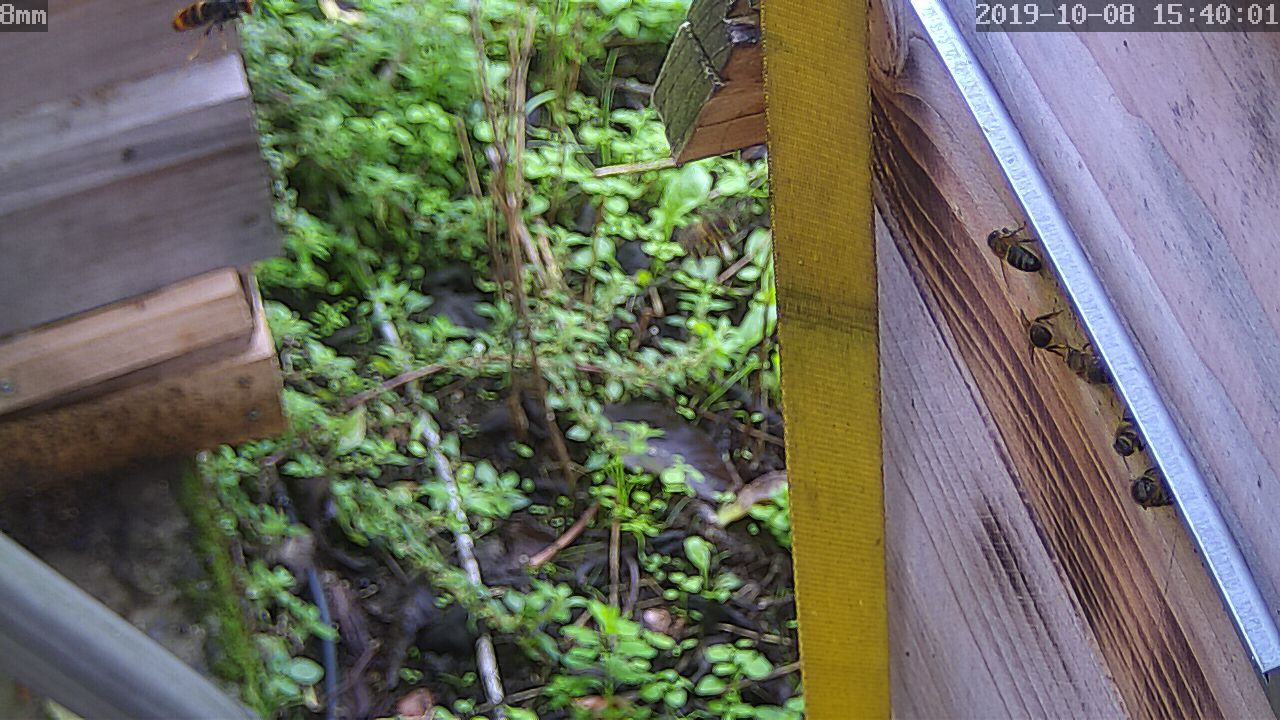bee: (984, 227, 1049, 286), (1120, 457, 1182, 515), (1061, 337, 1115, 392), (1010, 315, 1070, 364), (1095, 411, 1151, 461)
hornet: (160, 1, 267, 40)
